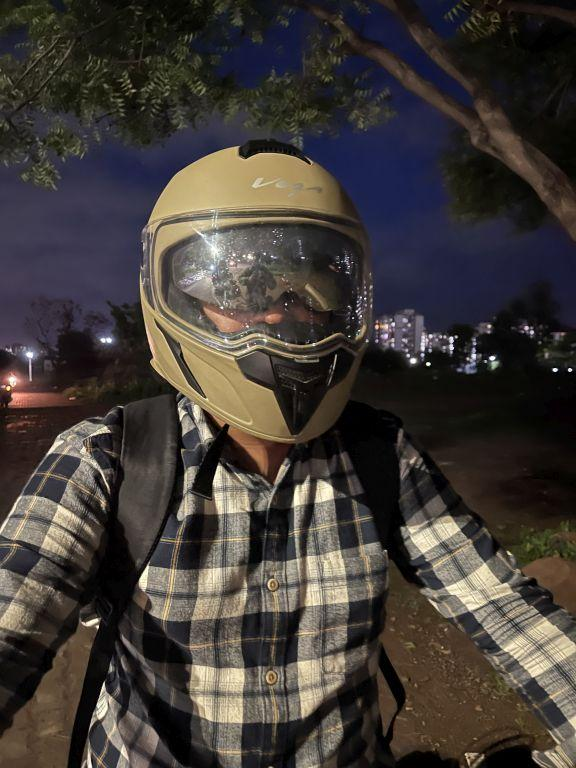helmet: (132, 129, 376, 471)
